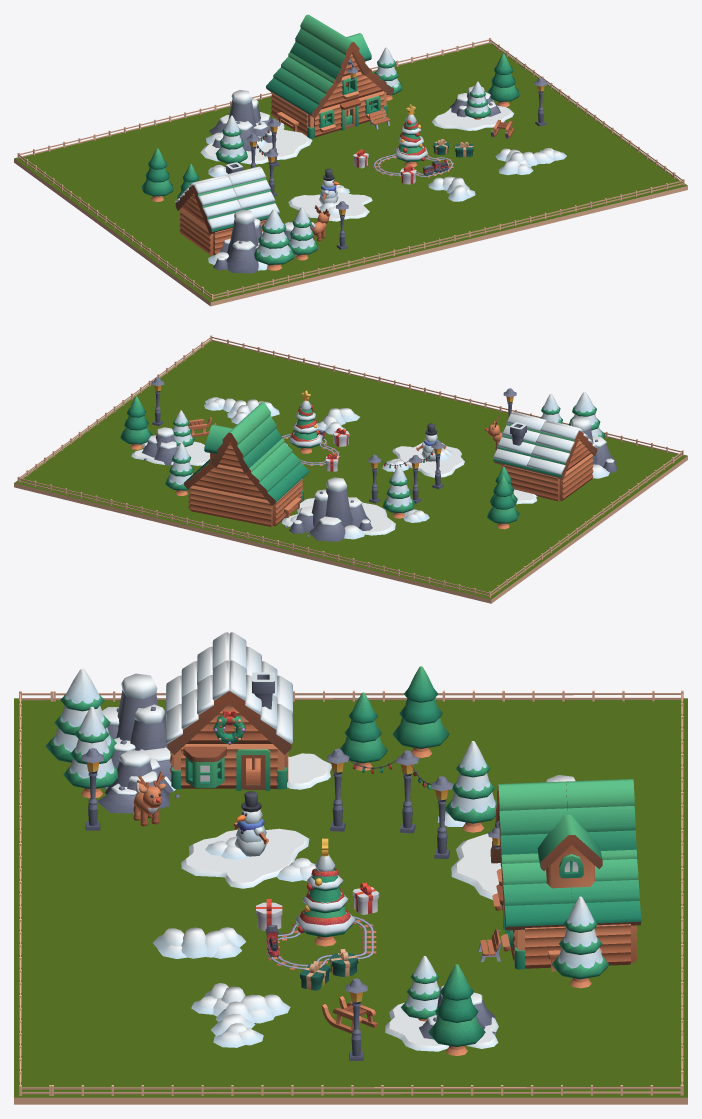
The model's file is Level1Map.glb.
3 renders of one model, top to bottom at view 1: azimuth 30°, elevation 25°; view 2: azimuth 150°, elevation 25°; view 3: azimuth 270°, elevation 25°, orthographic. The views are drawn at different scales.
Visible parts, largest first — view 1: cliff_block_rock, rocks-large, rocks-large.001, cabin-roof-snow.001, cabin-roof-snow, cabin-roof-point, tree-snow-a.002, cabin-roof.002, snow-flat-large.002, snow-flat-large.001, cabin-roof.003, tree-decorated-snow.001 (+17 smaller); view 2: cliff_block_rock, rocks-large.001, cabin-roof-snow.002, cabin-roof-snow-chimney, cabin-roof-point.001, cabin-roof.003, tree-decorated-snow.001, snow-flat-large.001, rocks-large, tree.002, tree-snow-a.004, cabin-roof.002 (+18 smaller); view 3: cliff_block_rock, cabin-roof-point, rocks-large, cabin-roof-point.001, cabin-roof, snow-flat-large.001, cabin-roof.001, cabin-roof-dormer, cabin-roof-snow-chimney, tree-decorated-snow.001, cabin-roof-snow, tree-snow-a.003 (+32 smaller).
Part boxes in pixels (x1,y1,x2,y2): cliff_block_rock: (14,42,687,306); rocks-large: (208,209,267,273); rocks-large.001: (206,90,276,151); cabin-roof-snow.001: (193,176,241,234); cabin-roof-snow: (228,168,279,220); cabin-roof-point: (313,28,369,83); tree-snow-a.002: (254,209,294,270); cabin-roof.002: (289,66,339,118); snow-flat-large.002: (200,120,312,164); snow-flat-large.001: (288,192,372,221); cabin-roof.003: (266,52,312,102); tree-decorated-snow.001: (394,104,427,167); cliff_block_rock: (14,340,687,603); rocks-large.001: (284,477,372,541); cabin-roof-snow.002: (526,421,579,479); cabin-roof-snow-chimney: (493,413,544,470); cabin-roof-point.001: (211,417,265,472); cabin-roof.003: (245,453,292,505); tree-decorated-snow.001: (289,390,322,453); snow-flat-large.001: (392,442,464,477); rocks-large: (570,416,618,478); tree.002: (487,475,519,529); tree-snow-a.004: (382,465,414,518); cabin-roof.002: (266,438,308,487); cliff_block_rock: (14,698,687,1104); cabin-roof-point: (495,781,567,860); rocks-large: (102,673,175,791); cabin-roof-point.001: (565,779,636,850); cabin-roof: (501,853,572,930); snow-flat-large.001: (181,828,309,888); cabin-roof.001: (571,849,641,925); cabin-roof-dormer: (537,814,602,888); cabin-roof-snow-chimney: (229,660,292,754); tree-decorated-snow.001: (295,838,355,946); cabin-roof-snow: (166,660,229,754); tree-snow-a.003: (552,896,609,988).
Bounding box in the file's own units: 151 × 27.72 × 108.
331 materials, 117 textured.
